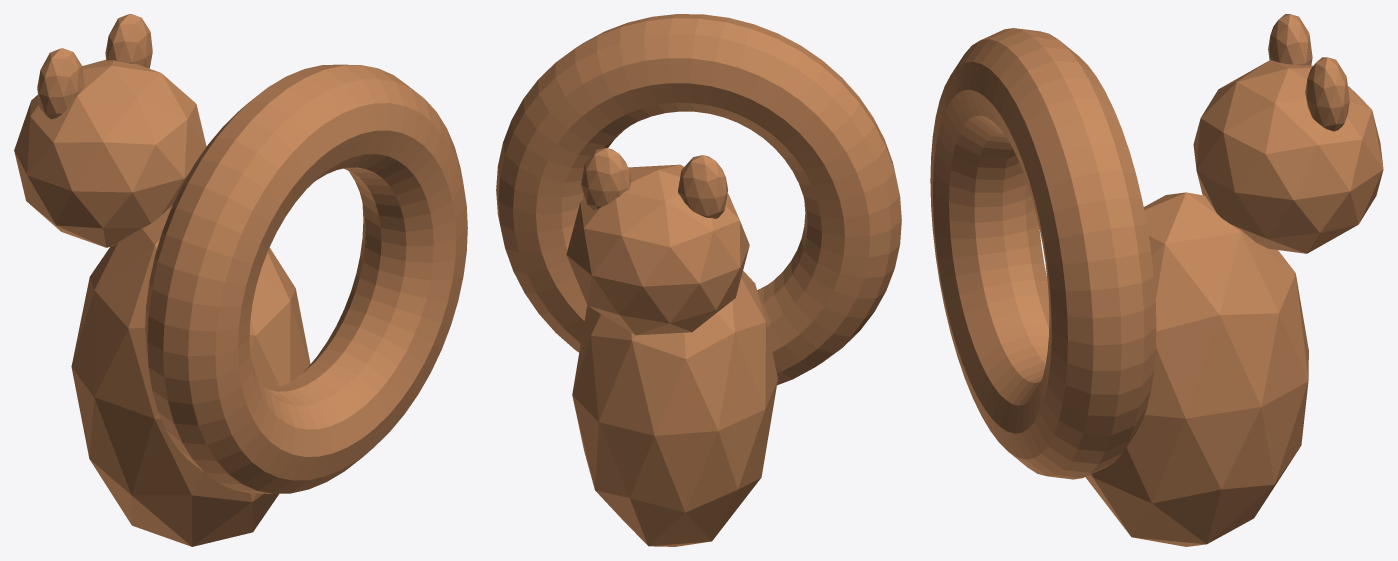
File: Squirrel.glb
3 renders of one model, left to right at view 1: azimuth 30°, elevation 25°; view 2: azimuth 150°, elevation 25°; view 3: azimuth 270°, elevation 25°, orthographic. The views are drawn at different scales.
Visible parts, largest first — view 1: SquirrelTail, SquirrelBody, SquirrelHead, SquirrelEar2, SquirrelEar1; view 2: SquirrelTail, SquirrelBody, SquirrelHead, SquirrelEar2, SquirrelEar1; view 3: SquirrelTail, SquirrelBody, SquirrelHead, SquirrelEar1, SquirrelEar2.
Part boxes in pixels (bbox=[...]): SquirrelTail: bbox=[145, 64, 467, 493]; SquirrelBody: bbox=[71, 205, 310, 546]; SquirrelHead: bbox=[14, 59, 206, 247]; SquirrelEar2: bbox=[37, 48, 84, 119]; SquirrelEar1: bbox=[105, 14, 152, 68]; SquirrelTail: bbox=[496, 14, 901, 385]; SquirrelBody: bbox=[572, 271, 777, 546]; SquirrelHead: bbox=[566, 164, 749, 335]; SquirrelEar2: bbox=[678, 155, 727, 218]; SquirrelEar1: bbox=[581, 148, 631, 209]; SquirrelTail: bbox=[930, 28, 1156, 479]; SquirrelBody: bbox=[1085, 192, 1308, 546]; SquirrelHead: bbox=[1193, 60, 1383, 253]; SquirrelEar1: bbox=[1305, 57, 1349, 131]; SquirrelEar2: bbox=[1268, 14, 1312, 65].
Bounding box in the file's own units: 0.3992 × 0.53 × 0.4169.
